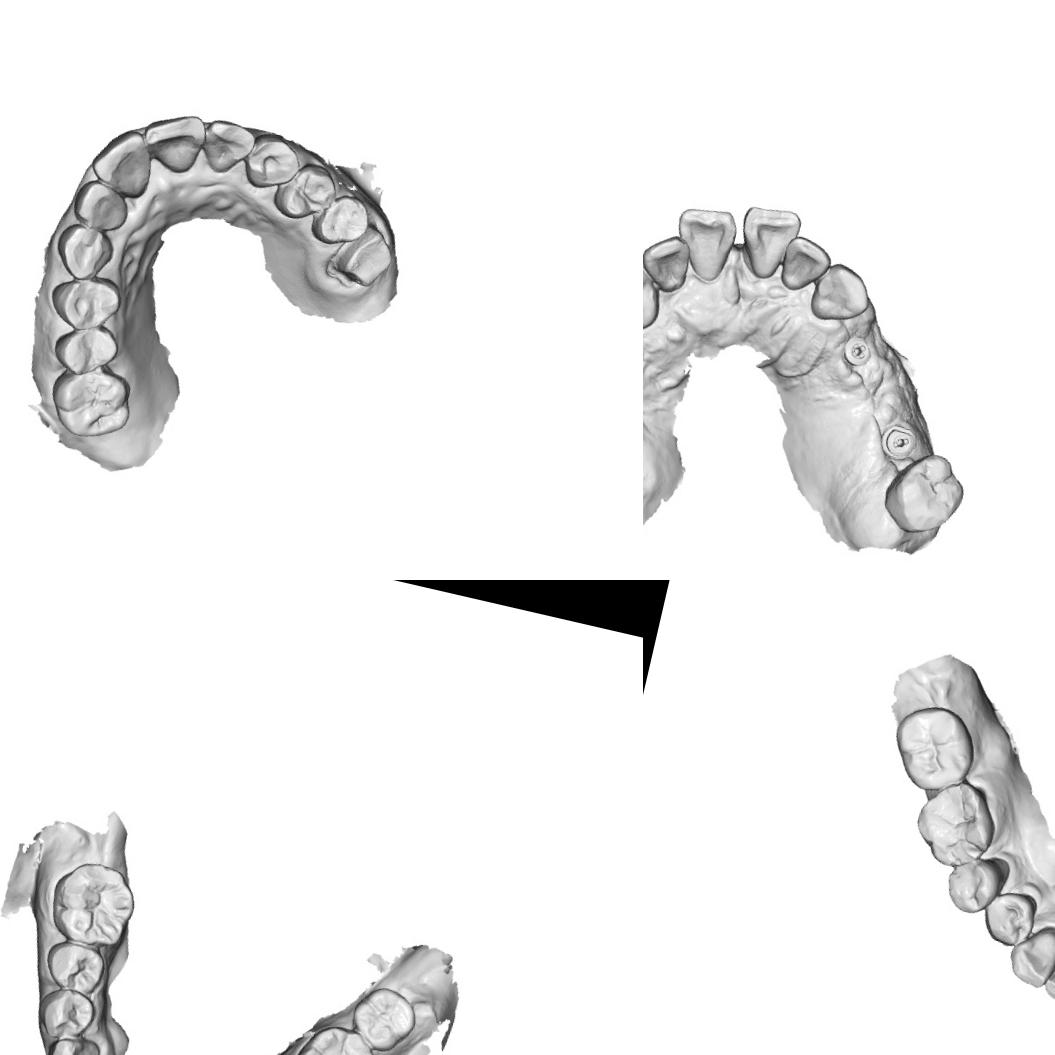canine: (805, 256, 877, 330), (50, 220, 120, 287), (240, 129, 306, 198), (999, 922, 1055, 995), (643, 254, 669, 337), (38, 1030, 104, 1055)
crown: (326, 216, 399, 294)
implant_minus: (876, 423, 920, 464)
implant_plus: (839, 331, 875, 370)
incisor: (665, 200, 743, 287), (730, 198, 806, 286), (84, 121, 159, 202), (134, 102, 210, 179), (195, 114, 260, 181), (775, 232, 836, 299), (67, 175, 134, 235), (643, 227, 696, 297), (1041, 947, 1055, 1009)
molar: (881, 695, 985, 802), (906, 770, 1009, 877), (42, 853, 144, 955), (876, 444, 972, 545), (41, 356, 141, 448), (345, 980, 423, 1055), (285, 1016, 383, 1055)
premolar: (44, 266, 127, 339), (268, 155, 342, 228), (47, 316, 124, 384), (940, 850, 1007, 922), (976, 886, 1043, 954), (308, 187, 374, 254), (39, 936, 110, 998), (32, 983, 100, 1047)
